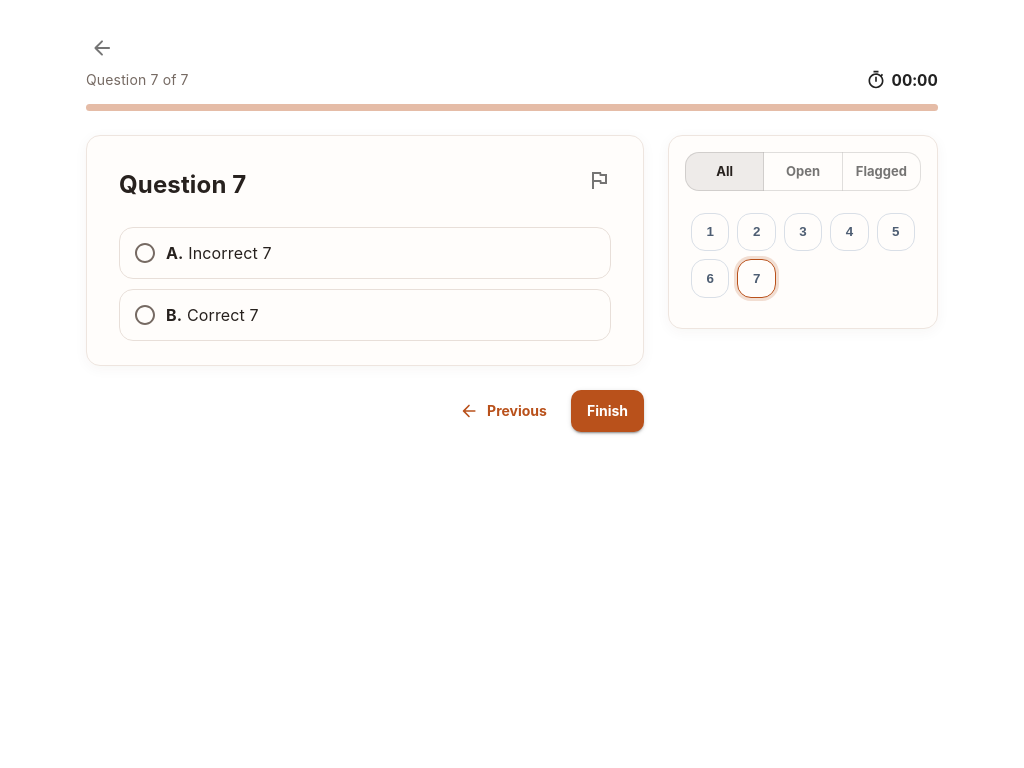
Test: quiz submission confirmation › cancels submission without finishing when cancelled, closed, or dismissed with Escape
Click the button "Finish" at (607, 411), box top-left (571, 390), bottom-right (644, 432)
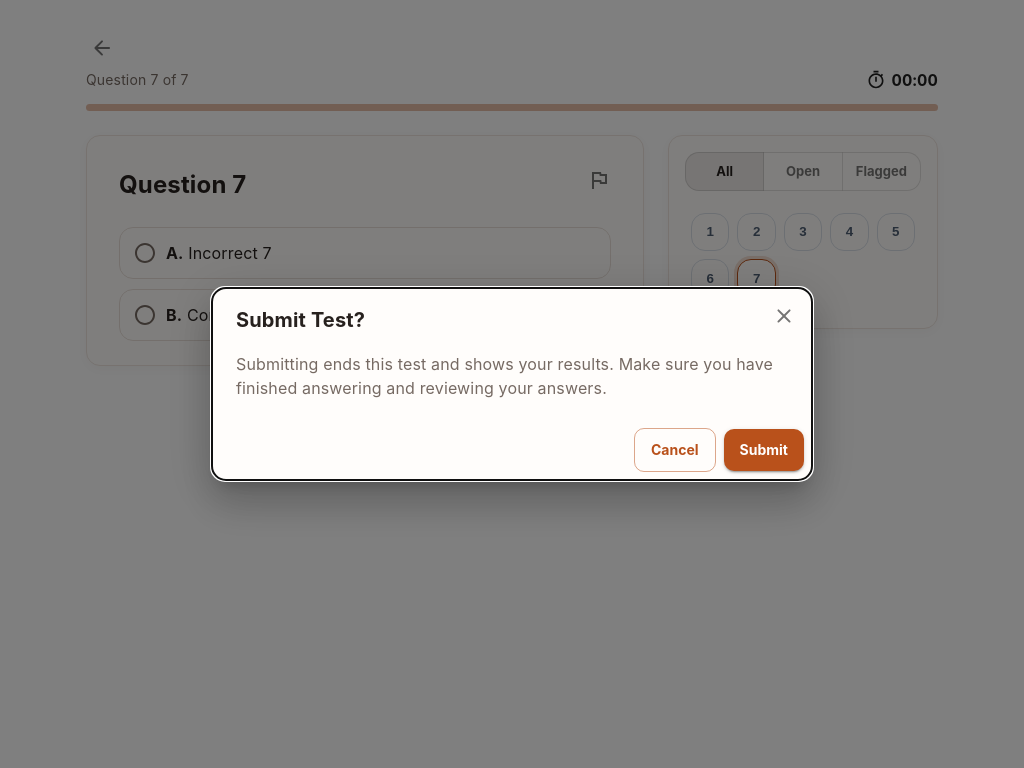
Click the button "Cancel" at (675, 450), box top-left (634, 428), bottom-right (716, 472)
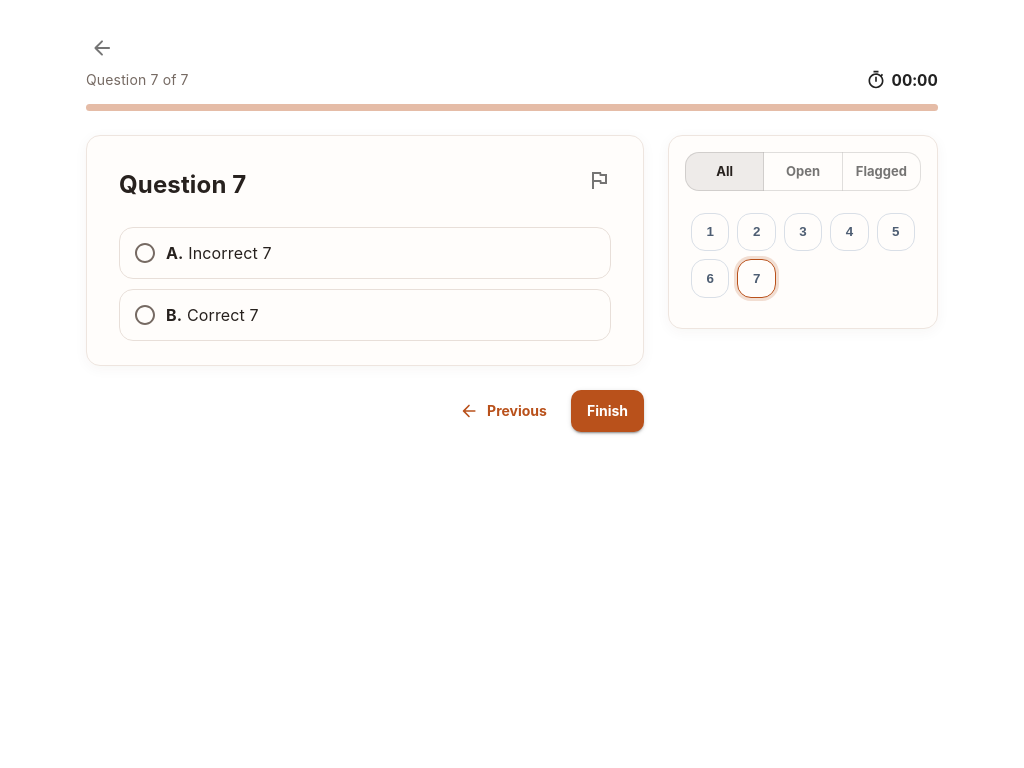
Result: the dialog is gone
Click the button "Finish" at (607, 411), box top-left (571, 390), bottom-right (644, 432)
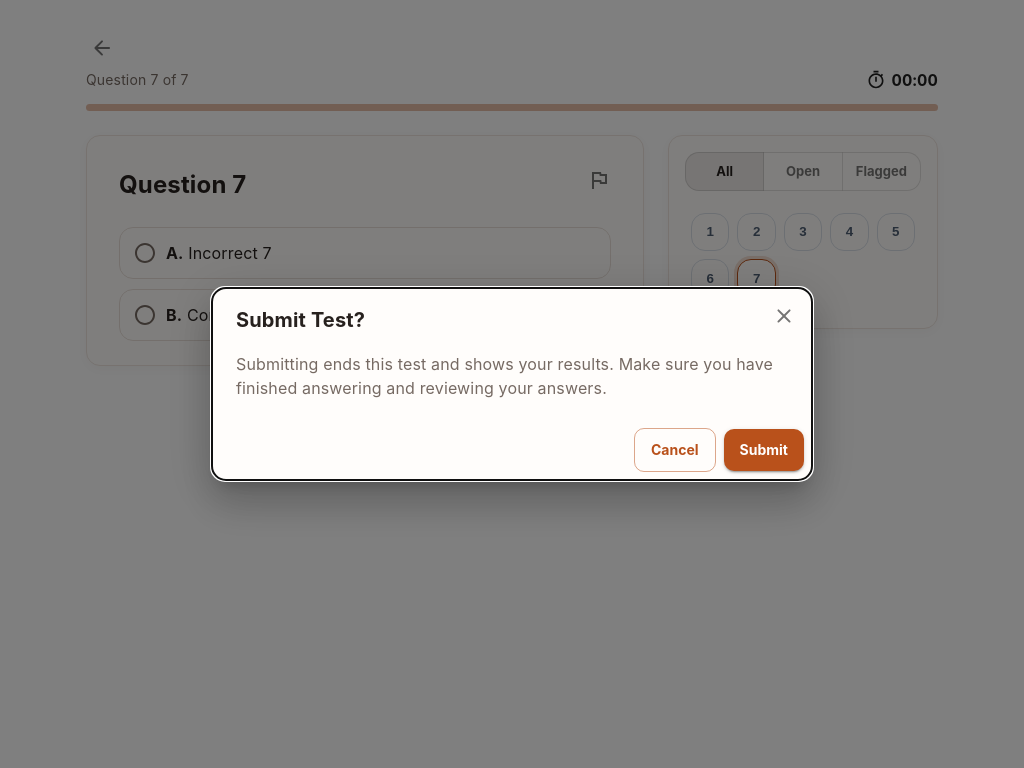
Click the button named "Cancel submission" at (784, 316), box top-left (764, 296), bottom-right (804, 336)
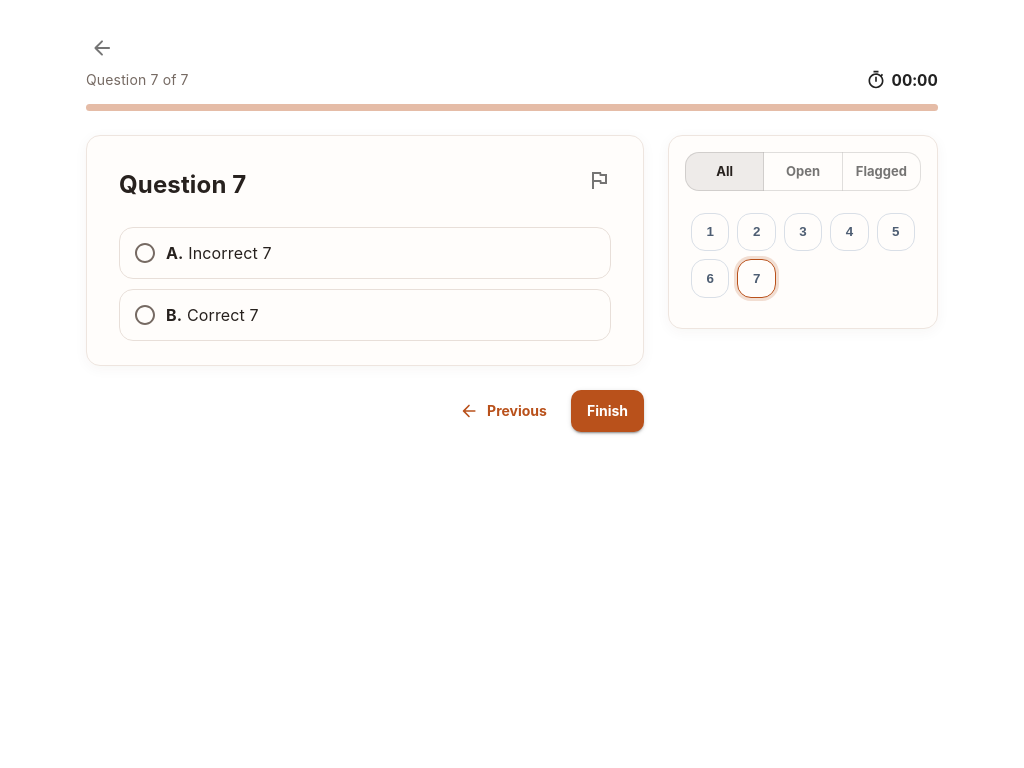
Result: the dialog is gone
Click the button "Finish" at (607, 411), box top-left (571, 390), bottom-right (644, 432)
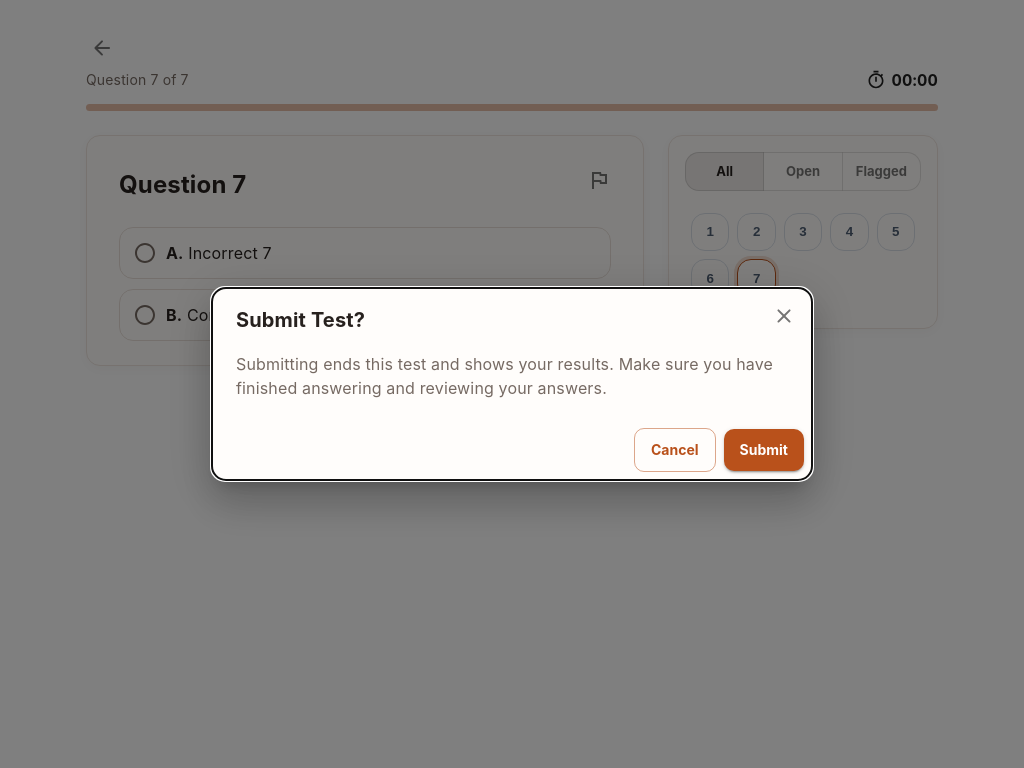
Press Escape in the dialog, box top-left (212, 288), bottom-right (812, 480)
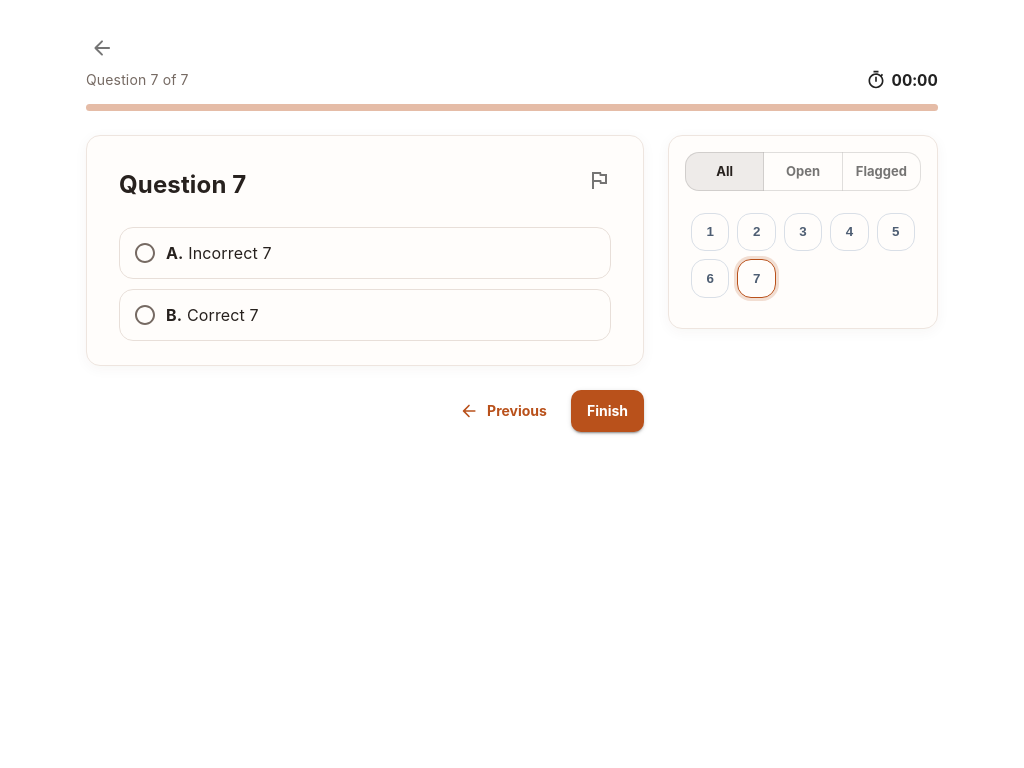
Result: the dialog is gone
